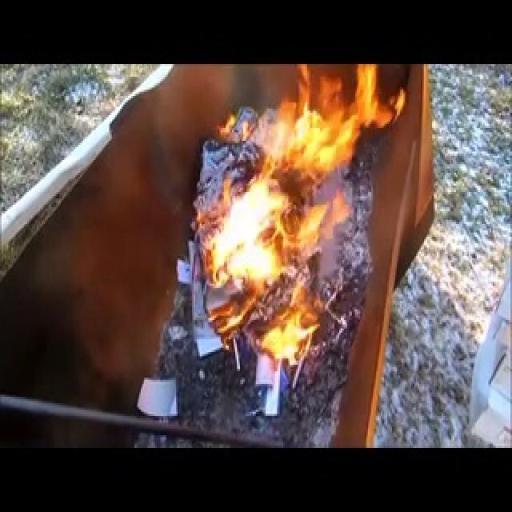smoke: (186, 64, 356, 362)
